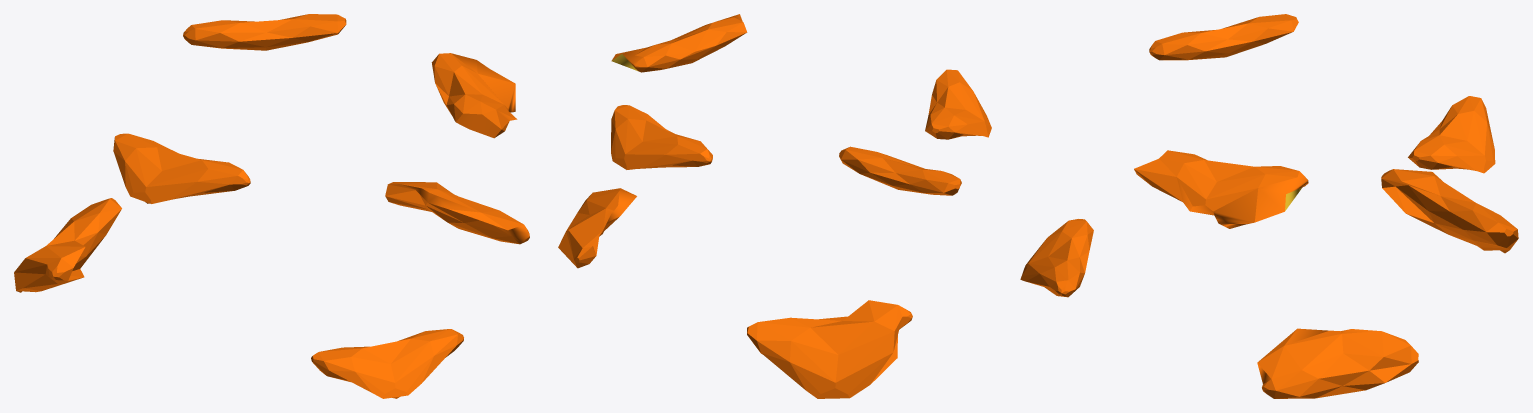
The model's file is Beehive_honey.fbx.
The picture shows the model from 3 angles, left to right: view 1: azimuth 30°, elevation 25°; view 2: azimuth 150°, elevation 25°; view 3: azimuth 270°, elevation 25°; orthographic projection. The views are drawn at different scales.
Visible parts, largest first — view 1: Beehive.000; view 2: Beehive.000; view 3: Beehive.000.
Part boxes in pixels (left/top/right/bottom): Beehive.000: left=14, top=14, right=529, bottom=398; Beehive.000: left=558, top=14, right=991, bottom=398; Beehive.000: left=1020, top=14, right=1518, bottom=398.
Size of the model in its own units: 195 by 101 by 201.
